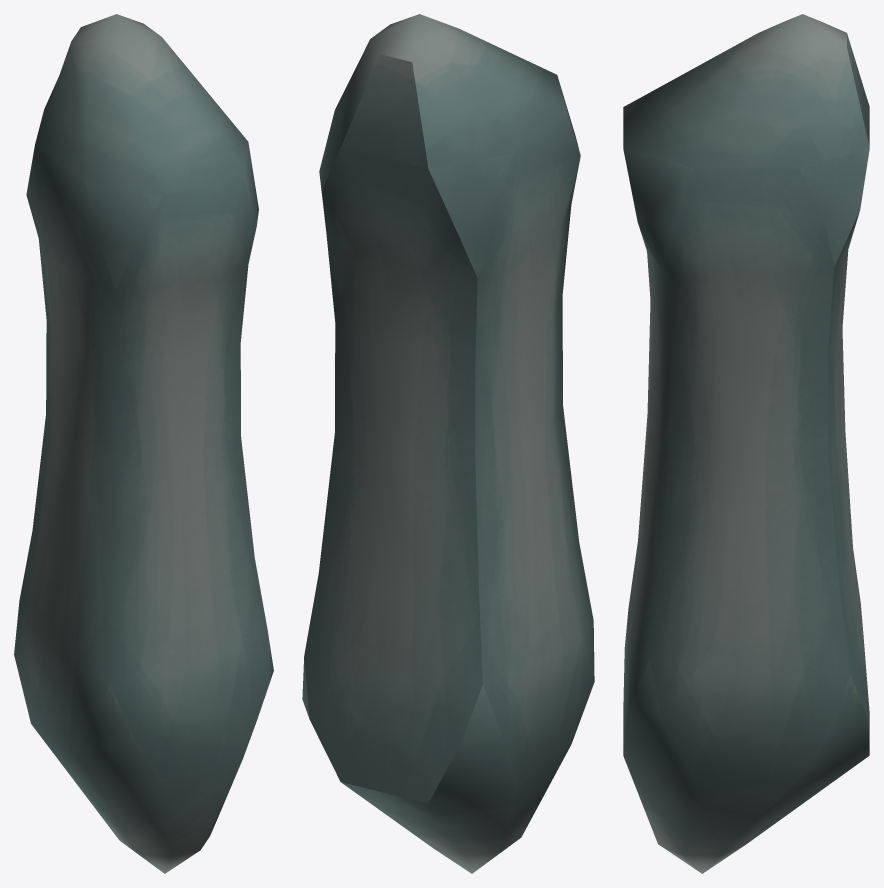
Rendered from StingrayStructure_PillarModel.fbx.
The picture shows the model from 3 angles, left to right: view 1: azimuth 30°, elevation 25°; view 2: azimuth 150°, elevation 25°; view 3: azimuth 270°, elevation 25°; orthographic projection. The views are drawn at different scales.
Parts seen in each view (by area): view 1: Pillar; view 2: Pillar; view 3: Pillar.
Part boxes in pixels (box(x1,y1,x2,y2)): Pillar: box(14, 14, 273, 873); Pillar: box(302, 14, 594, 873); Pillar: box(623, 14, 869, 873).
Size of the model in its own units: 83.42 by 89.88 by 346.
